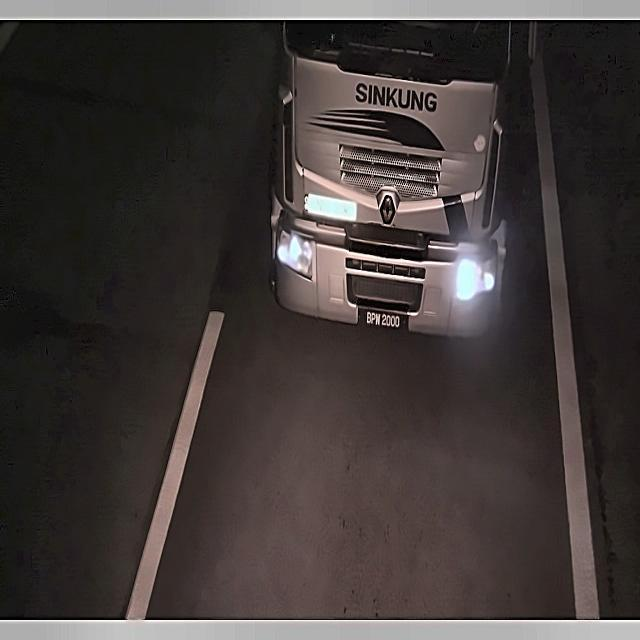car: (355, 305, 410, 337)
